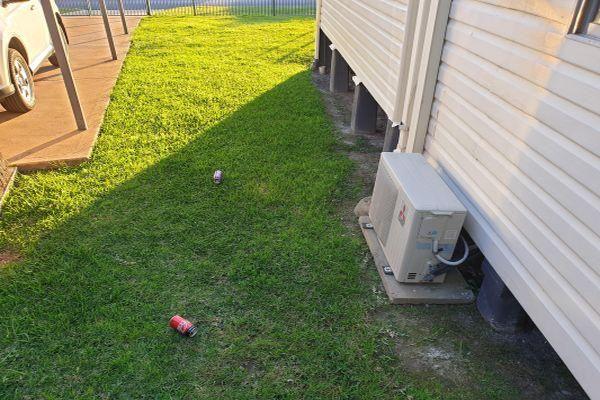Plastic Bottle: (168, 314, 198, 337), (212, 169, 225, 185)
